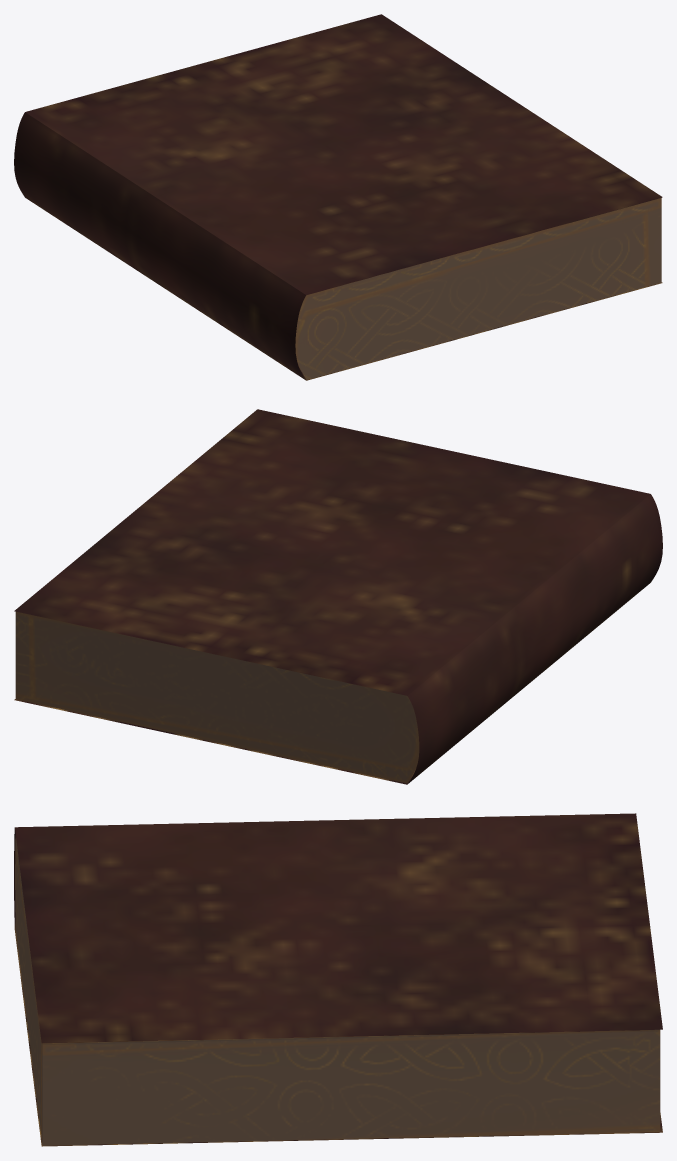
Rendered from SM_BookPile.fbx.
The picture shows the model from 3 angles, top to bottom: view 1: azimuth 30°, elevation 25°; view 2: azimuth 150°, elevation 25°; view 3: azimuth 270°, elevation 25°; orthographic projection. The views are drawn at different scales.
Visible parts, largest first — view 1: SM_BookPile_LOD0; view 2: SM_BookPile_LOD0; view 3: SM_BookPile_LOD0.
Boxes of the visible parts, x1,y1,x2,y2 form: SM_BookPile_LOD0: (14, 14, 662, 380); SM_BookPile_LOD0: (14, 409, 662, 784); SM_BookPile_LOD0: (14, 813, 662, 1146).
Bounding box in the file's own units: 35.7 × 41.39 × 7.26.
Materials: 1 (1 with a texture image).
